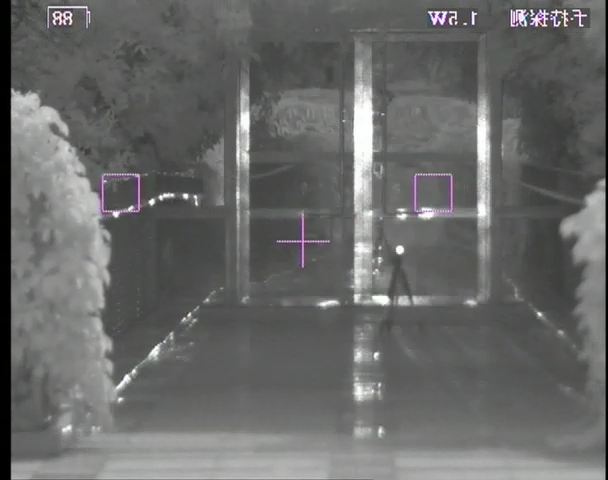my: (393, 244, 405, 256)
